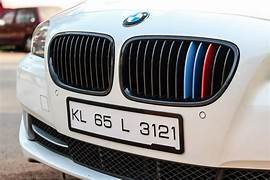number_plate: (68, 99, 182, 151)
